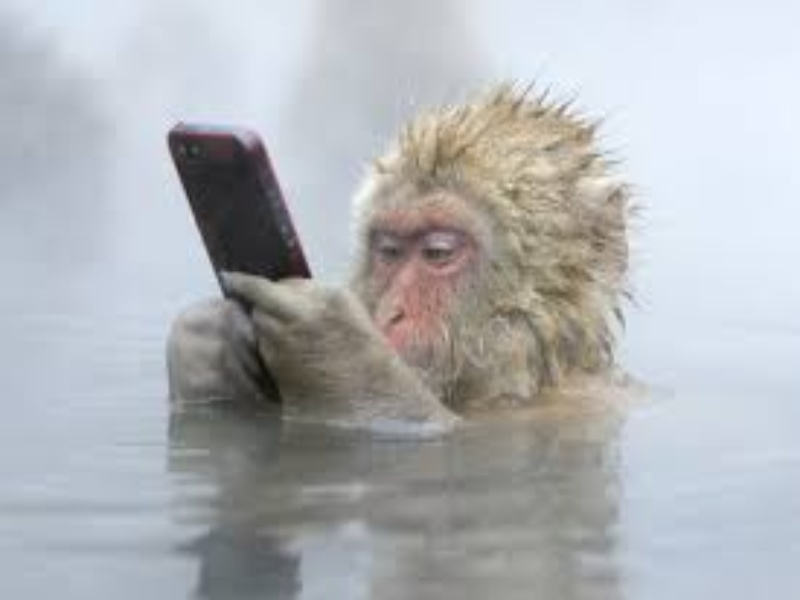monkey: (129, 80, 687, 469)
